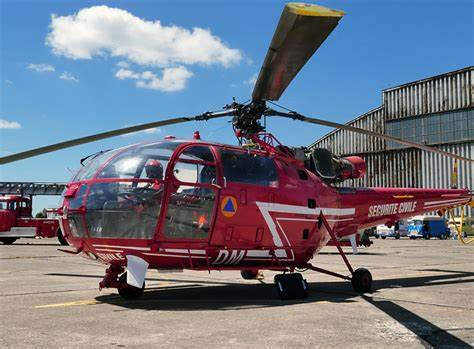Aeronef_de_service: (1, 2, 474, 304)
